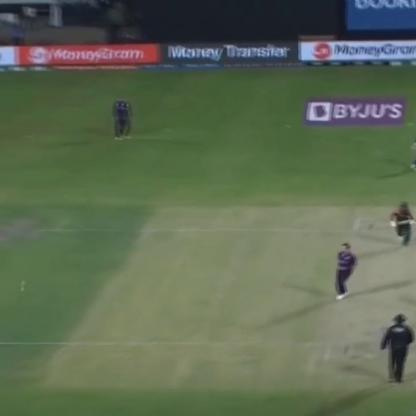ball: (16, 284, 26, 294), (18, 279, 29, 287)
pitch: (334, 203, 415, 383)
